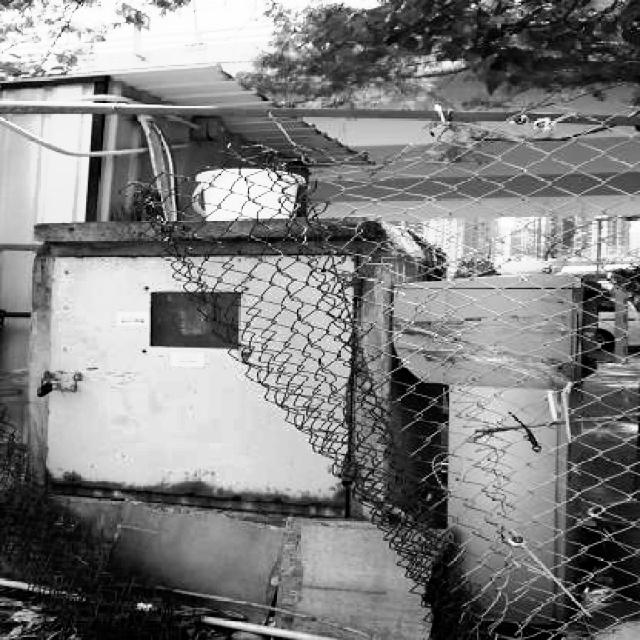anomaly-fence: (11, 90, 506, 640)
